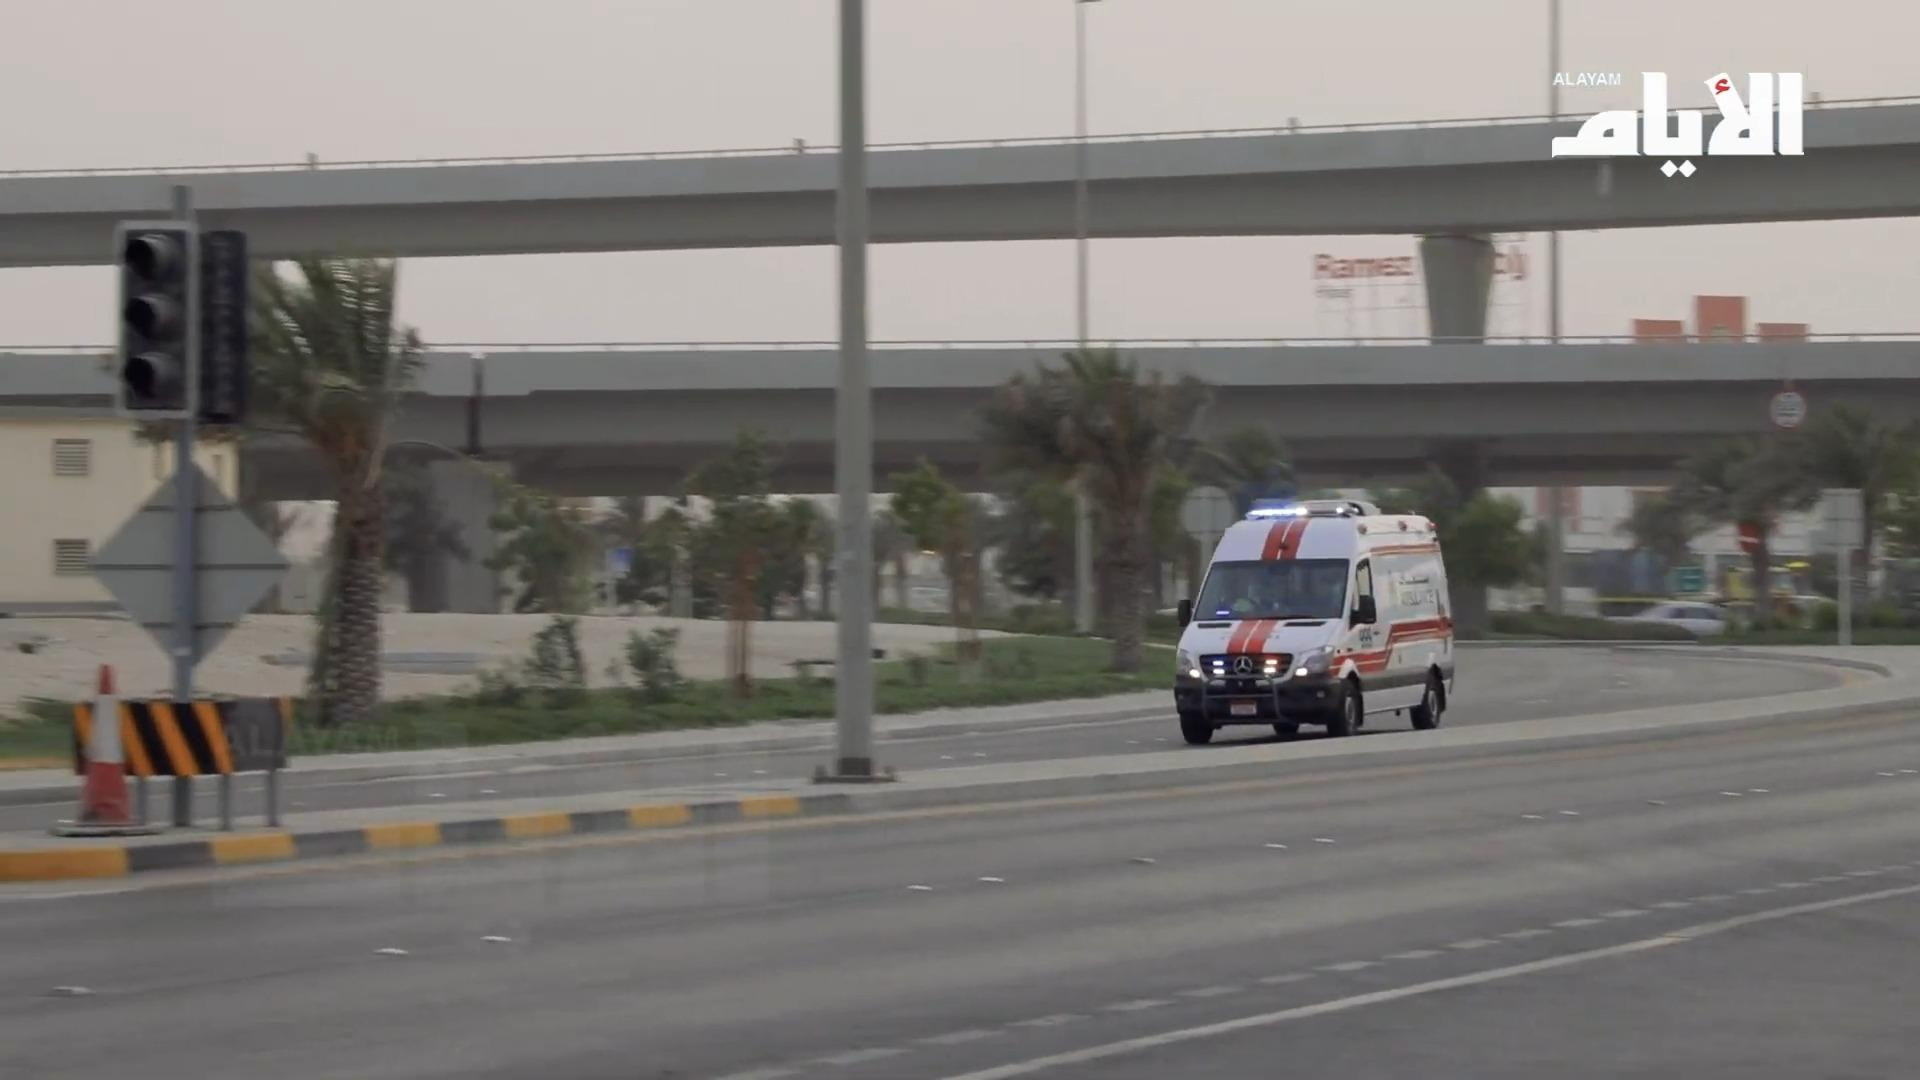ambulance_on: (1172, 501, 1453, 745)
